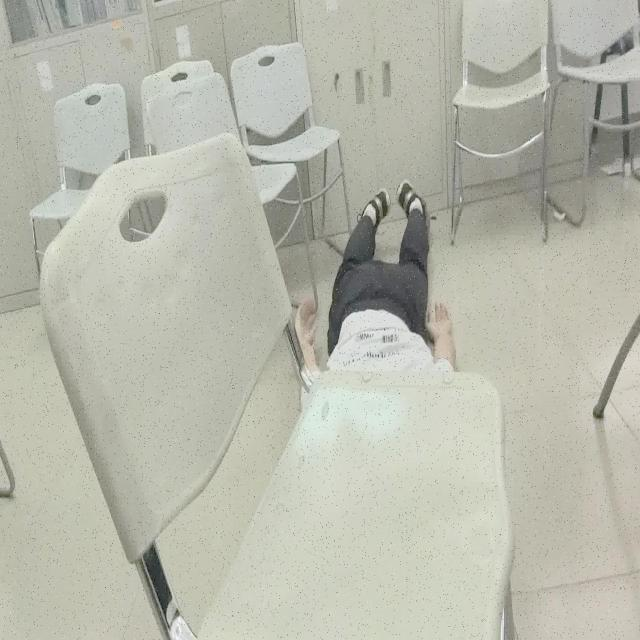fall: (294, 176, 458, 374)
